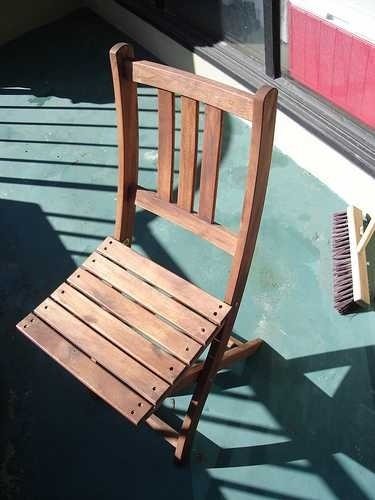obstacle: (17, 43, 276, 461)
